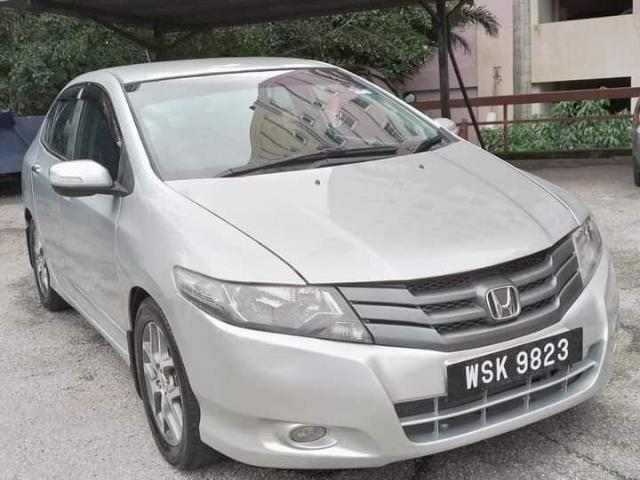License_Plate: (448, 329, 582, 401)
